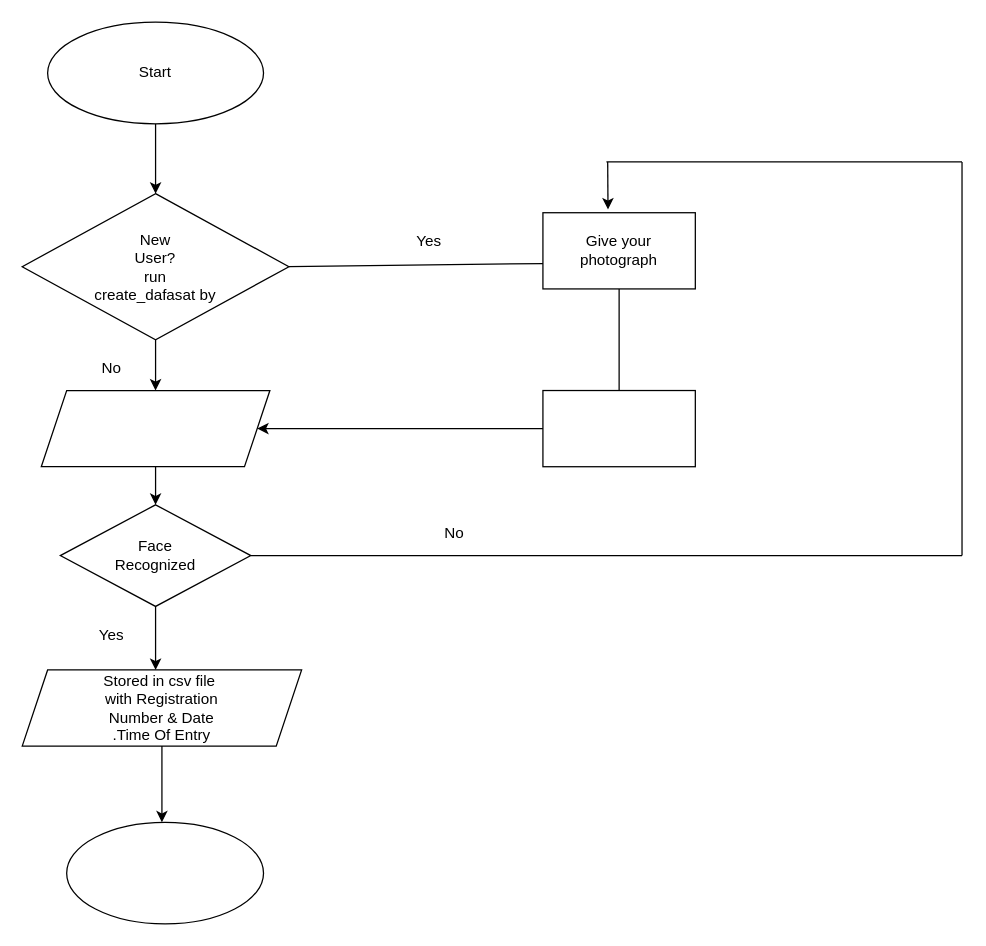
Image size: 986x946. Some labels were removed from this diagram. Here are the shapes that lost their labels. From the top down, the box of each, then its label:
(40, 389, 270, 467): Recognize the face run face_recognize py
(542, 389, 695, 467): Store the face data in folder on your name
(65, 821, 264, 924): End
